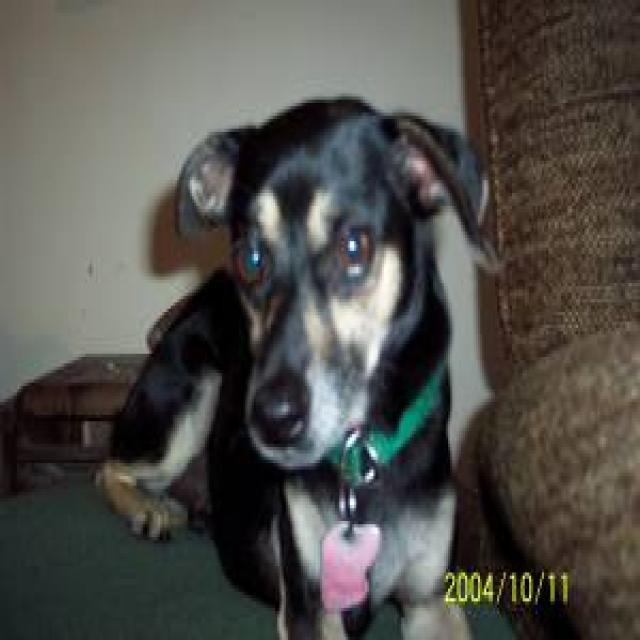dog-miniature_pinscher: (94, 77, 497, 634)
